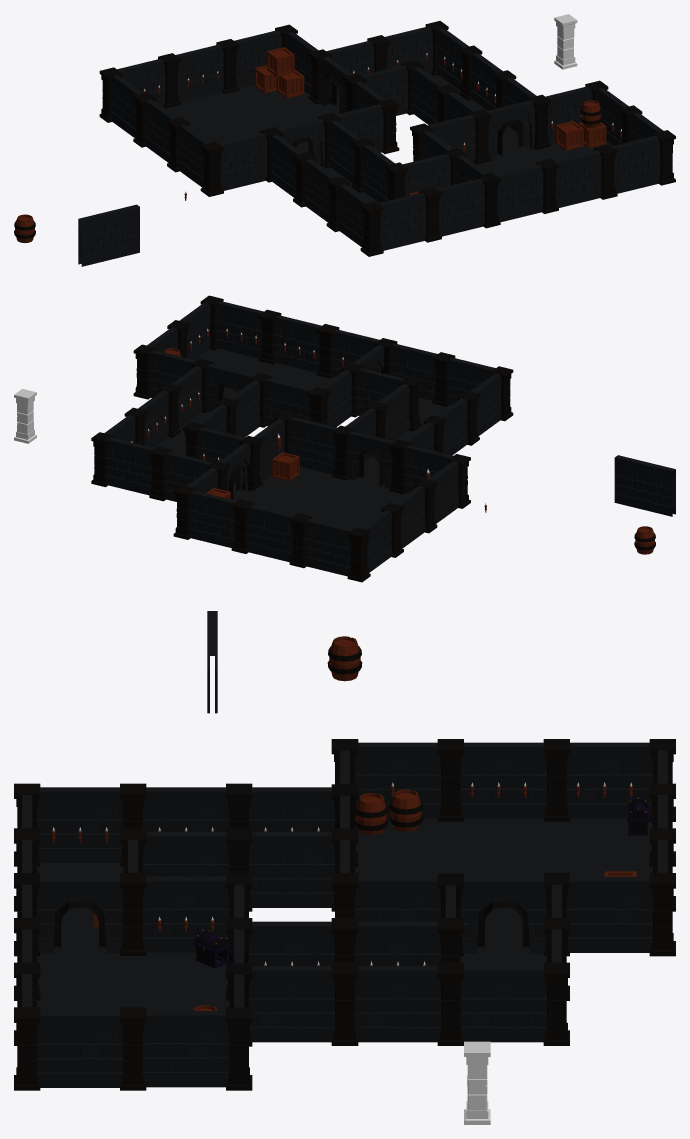
Rendered from dungeon-update.obj.
The picture shows the model from 3 angles, top to bottom: view 1: azimuth 30°, elevation 25°; view 2: azimuth 150°, elevation 25°; view 3: azimuth 270°, elevation 25°; orthographic projection. The views are drawn at different scales.
Parts seen in each view (by area): view 1: wall, wall(without_pillar), wall.021, wall.017, wall.020, wall.022, wall.016, wall.008, doorway.001, wall.015, wall.019, wall.009 (+42 smaller); view 2: wall(without_pillar), wall.009, wall.003, wall.008, wall.021, wall.002, wall.022, doorway, wall.007, wall(without_pillar).003, wall.030, wall.016 (+36 smaller); view 3: wall.024, wall.029, wall.027, wall.025, wall.006, wall.010, wall.004, wall.015, wall.007, wall.005, wall(without_pillar).001, wall.018 (+44 smaller).
Part boxes in pixels (left/top/right/bottom): wall: left=200, top=132, right=267, bottom=196; wall(without_pillar): left=78, top=204, right=139, bottom=266; wall.021: left=553, top=144, right=617, bottom=207; wall.017: left=436, top=173, right=500, bottom=236; wall.020: left=495, top=158, right=558, bottom=222; wall.022: left=612, top=130, right=675, bottom=193; wall.016: left=378, top=187, right=441, bottom=250; wall.008: left=175, top=39, right=239, bottom=102; doorway.001: left=486, top=94, right=550, bottom=158; wall.015: left=338, top=184, right=383, bottom=256; wall.019: left=427, top=109, right=491, bottom=164; wall.009: left=117, top=53, right=180, bottom=108; wall(without_pillar): left=614, top=455, right=675, bottom=516; wall.009: left=289, top=513, right=352, bottom=576; wall.003: left=173, top=485, right=236, bottom=547; wall.008: left=231, top=499, right=294, bottom=562; wall.021: left=258, top=309, right=321, bottom=372; wall.002: left=289, top=417, right=354, bottom=480; wall.022: left=200, top=295, right=263, bottom=358; doorway: left=347, top=431, right=411, bottom=494; wall.007: left=347, top=510, right=392, bottom=582; wall(without_pillar).003: left=106, top=437, right=154, bottom=495; wall.030: left=149, top=446, right=212, bottom=501; wall.016: left=432, top=352, right=495, bottom=406; wall.024: left=120, top=1007, right=229, bottom=1090; wall.029: left=460, top=962, right=569, bottom=1045; wall.027: left=355, top=962, right=463, bottom=1045; wall.025: left=249, top=962, right=358, bottom=1045; wall.006: left=460, top=739, right=569, bottom=821; wall.010: left=226, top=828, right=334, bottom=911; wall.004: left=543, top=873, right=652, bottom=956; wall.015: left=14, top=783, right=123, bottom=866; wall.007: left=566, top=739, right=675, bottom=821; wall.005: left=355, top=739, right=463, bottom=821; wall(without_pillar).001: left=37, top=1011, right=123, bottom=1087; wall.018: left=143, top=873, right=252, bottom=955.
Bounding box in the file's own units: 41.03 × 3.12 × 25.
